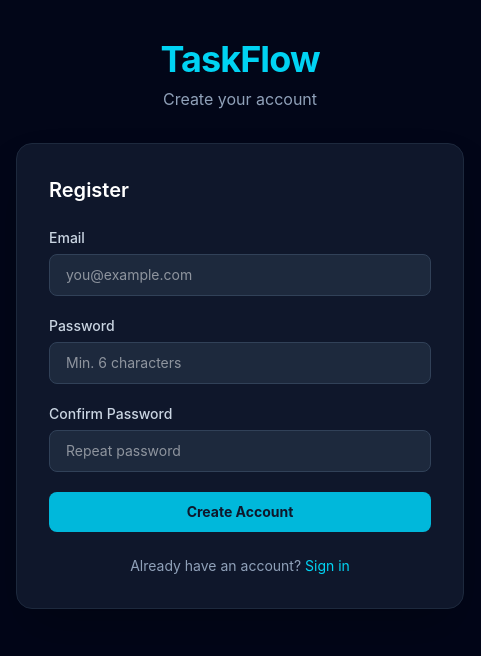
Test: Register Component › 2. shows required errors on empty submit
Click the button "Create Account" at x=240, y=512, box x1=49 y1=492 x2=431 y2=532
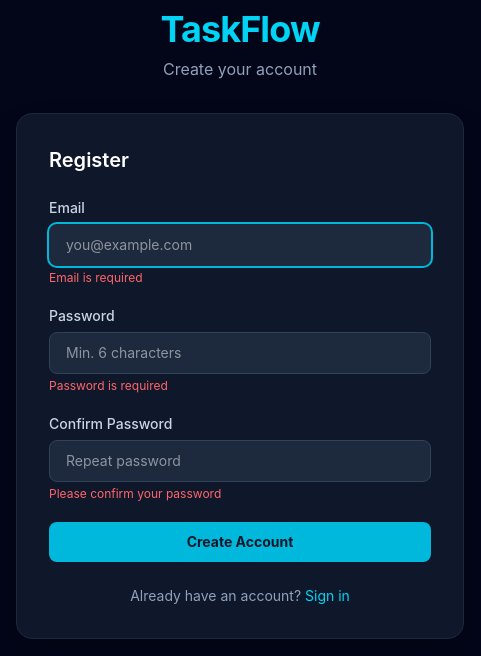
Expected: the text "Email is required" is shown, x1=49 y1=270 x2=143 y2=285
Expected: the text "Password is required" is shown, x1=49 y1=378 x2=168 y2=393
